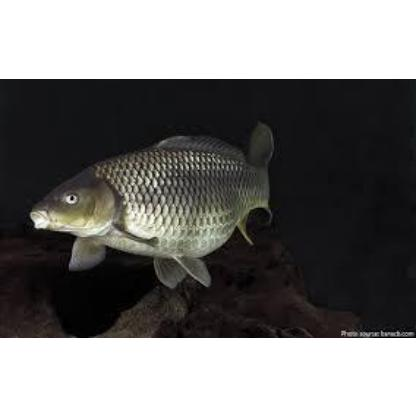ikan-mas: (27, 128, 270, 290)
